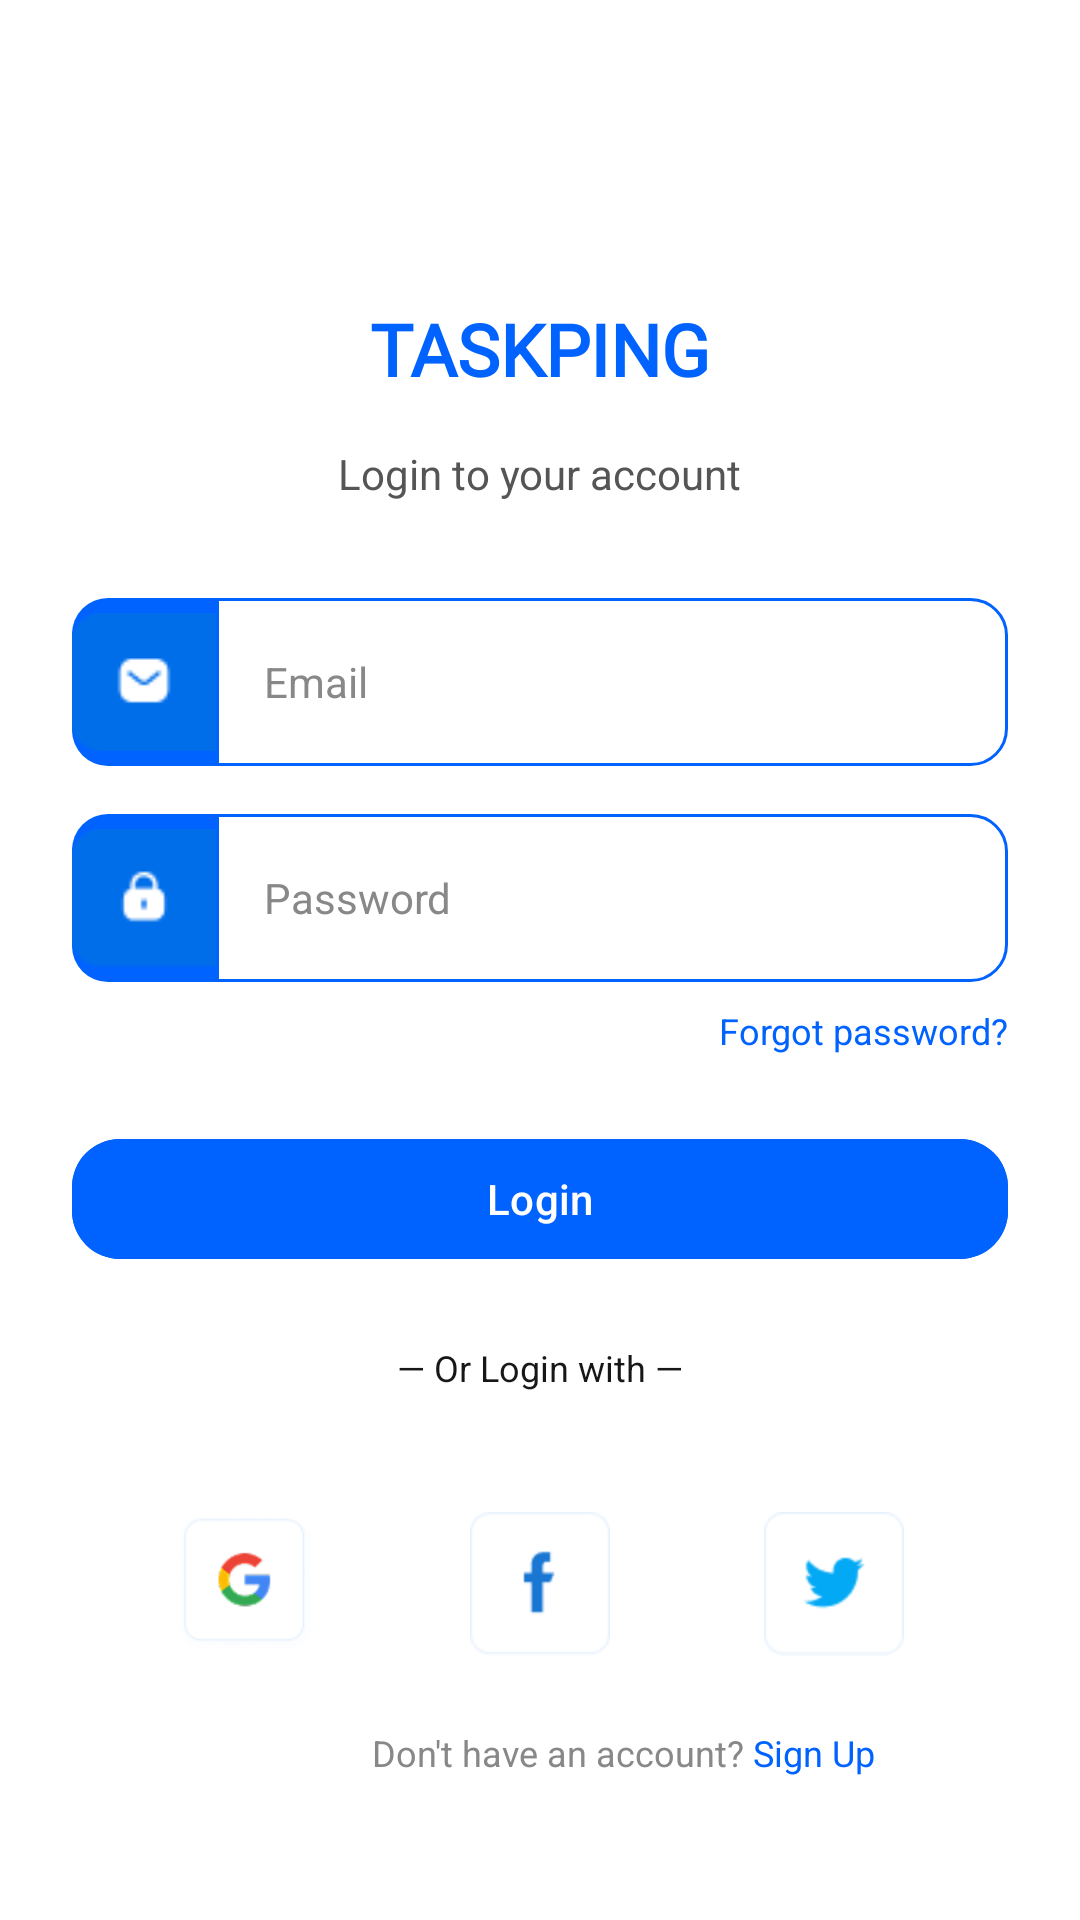

Icon click points for this 1080x1920 phone screenshot, format (x=x, y=y):
lock: (x=144, y=898)
